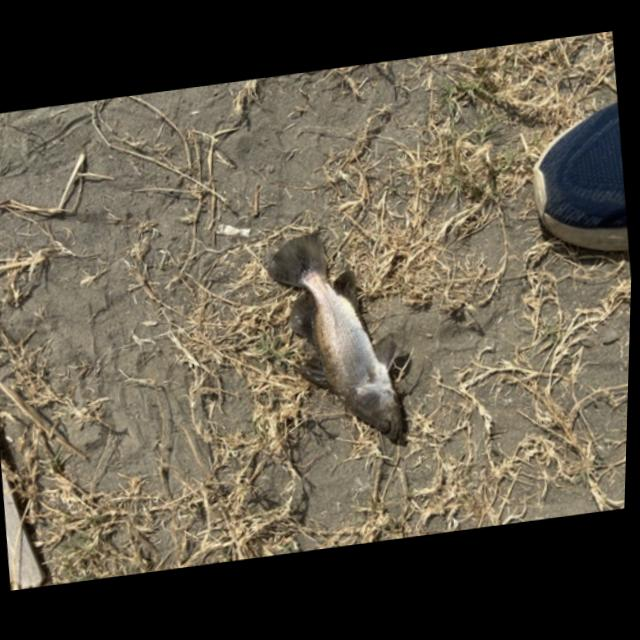Seabass: (259, 220, 420, 459)
